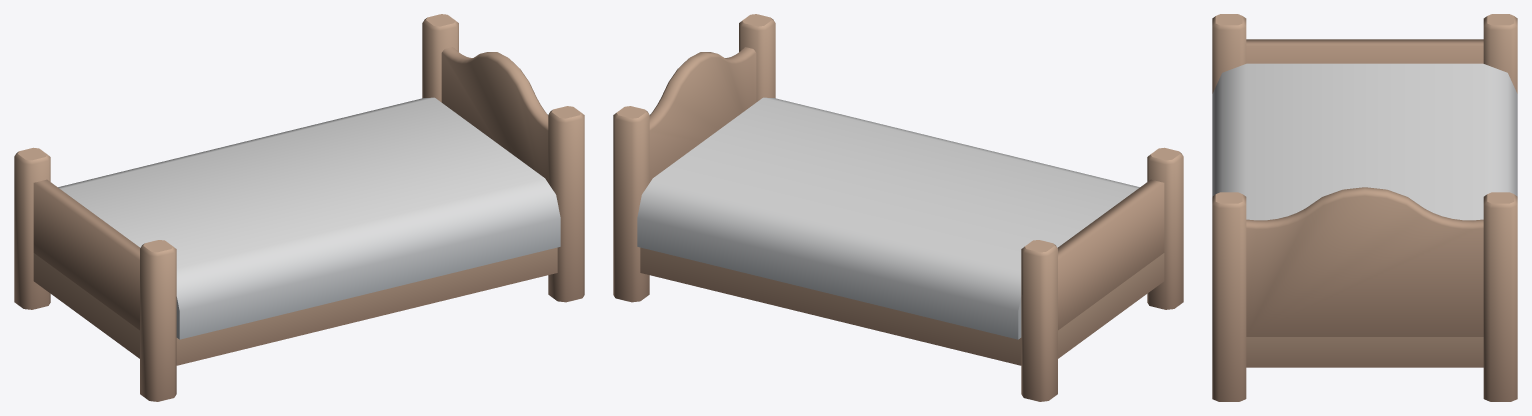
The model's file is bed-classic-single (%secret).glb.
3 views of the same model, side by side, from view 1: azimuth 30°, elevation 25°; view 2: azimuth 150°, elevation 25°; view 3: azimuth 270°, elevation 25° (orthographic). The views are drawn at different scales.
Parts seen in each view (by area): view 1: bed-classic-single (%secret); view 2: bed-classic-single (%secret); view 3: bed-classic-single (%secret).
Boxes of the visible parts, bbox=[...] form: bed-classic-single (%secret): bbox=[14, 14, 584, 401]; bed-classic-single (%secret): bbox=[613, 14, 1183, 401]; bed-classic-single (%secret): bbox=[1212, 14, 1517, 401].
Size of the model in its own units: 1.6 by 0.6681 by 0.9.
